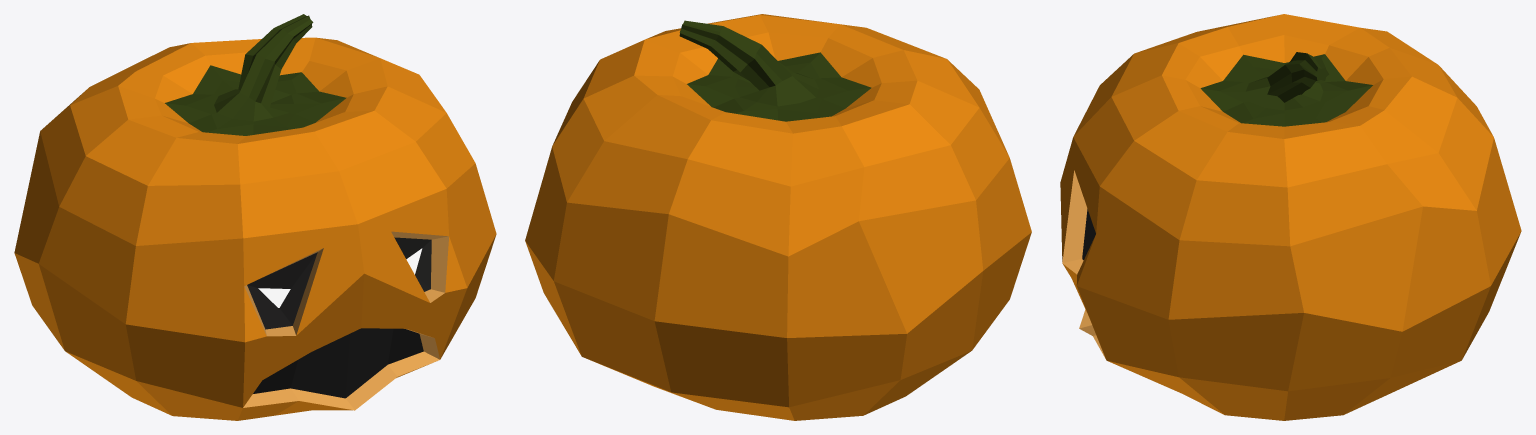
File: PumpkinV3.glb
3 views of the same model, side by side, from view 1: azimuth 30°, elevation 25°; view 2: azimuth 150°, elevation 25°; view 3: azimuth 270°, elevation 25° (orthographic). The views are drawn at different scales.
Parts seen in each view (by area): view 1: PumpkinV3; view 2: PumpkinV3; view 3: PumpkinV3.
Boxes of the visible parts, bbox=[...] form: PumpkinV3: bbox=[14, 14, 496, 420]; PumpkinV3: bbox=[525, 14, 1031, 420]; PumpkinV3: bbox=[1060, 14, 1521, 420].
Bounding box in the file's own units: 0.239 × 0.1789 × 0.228.
Materials: 2 (2 with a texture image).
